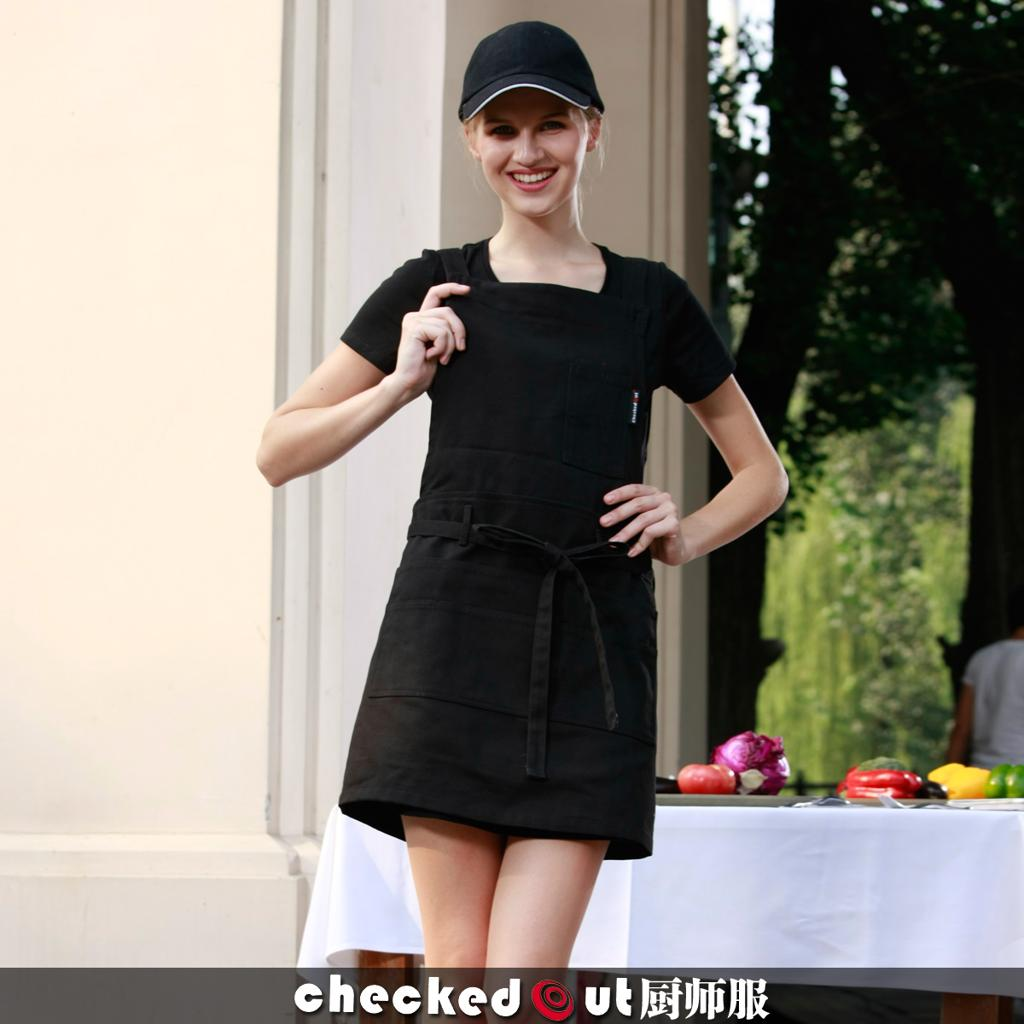face: (476, 78, 584, 216)
